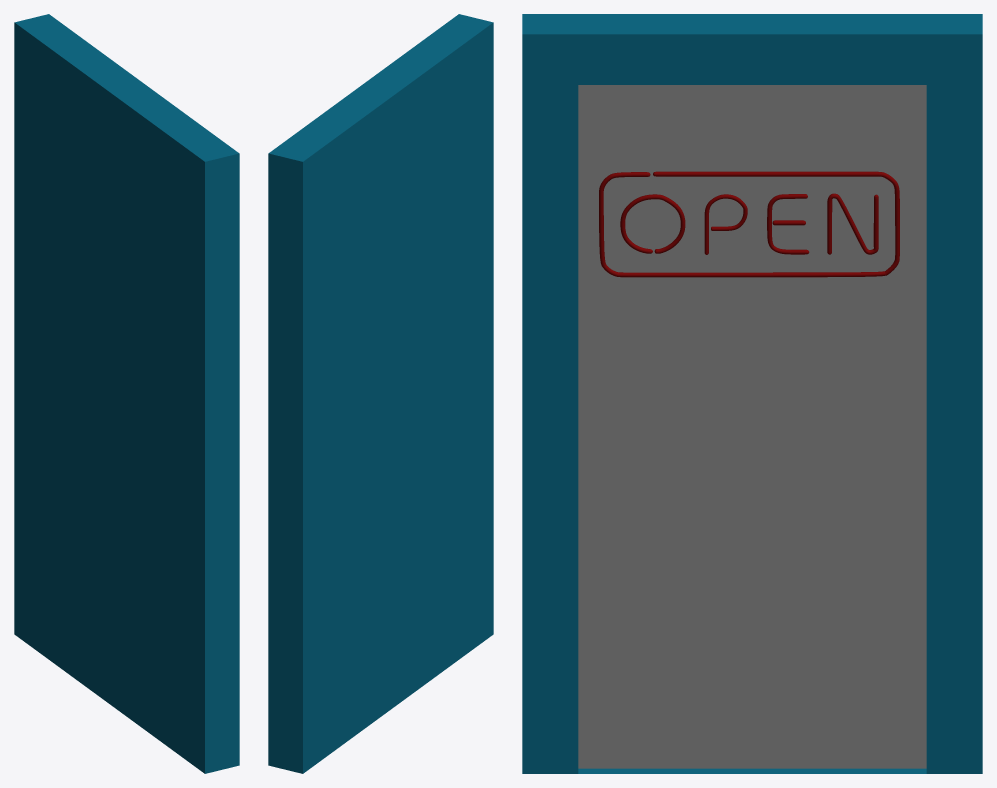
File: SM_door.fbx
The picture shows the model from 3 angles, left to right: view 1: azimuth 30°, elevation 25°; view 2: azimuth 150°, elevation 25°; view 3: azimuth 270°, elevation 25°; orthographic projection. The views are drawn at different scales.
Parts seen in each view (by area): view 1: Open_Sign:Capsule_6; view 2: Open_Sign:Capsule_6; view 3: Open_Sign:Capsule_6.
Part boxes in pixels (x1,y1,x2,y2): Open_Sign:Capsule_6: (14,14,239,773); Open_Sign:Capsule_6: (268,14,493,773); Open_Sign:Capsule_6: (522,14,982,773).
Size of the model in its own units: 4.47 by 75.85 by 42.8.
